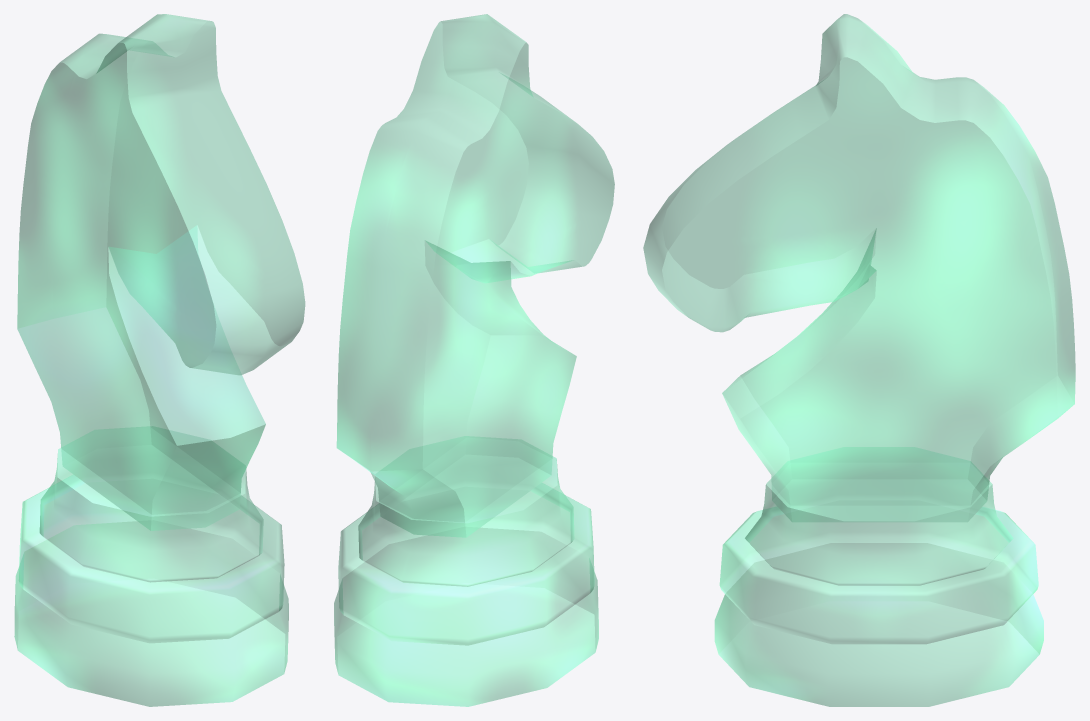
Rendered from item-1-13.glb.
3 renders of one model, left to right at view 1: azimuth 30°, elevation 25°; view 2: azimuth 150°, elevation 25°; view 3: azimuth 270°, elevation 25°, orthographic. The views are drawn at different scales.
Parts seen in each view (by area): view 1: BlackHorse; view 2: BlackHorse; view 3: BlackHorse.
Boxes of the visible parts, box(x1,y1,x2,y2) form: BlackHorse: box(14, 14, 305, 706); BlackHorse: box(334, 14, 614, 706); BlackHorse: box(643, 14, 1075, 706).
Bounding box in the file's own units: 0.0718 × 0.1965 × 0.1211.
